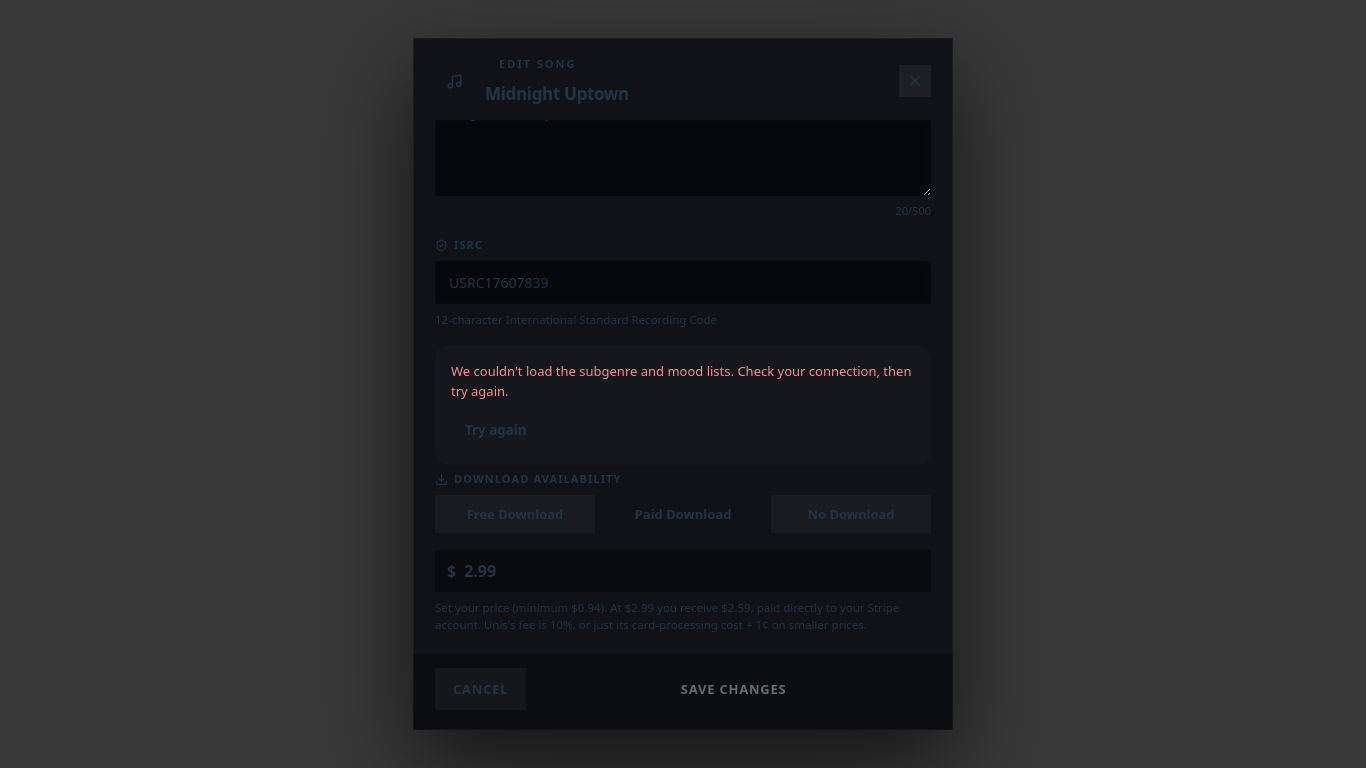
Scenario: EditSongWizard — download policy › switching from Paid back to Free hides the price input
(page scrolled)
Click the button "Free Download" at (515, 514), box [435, 495, 595, 533]
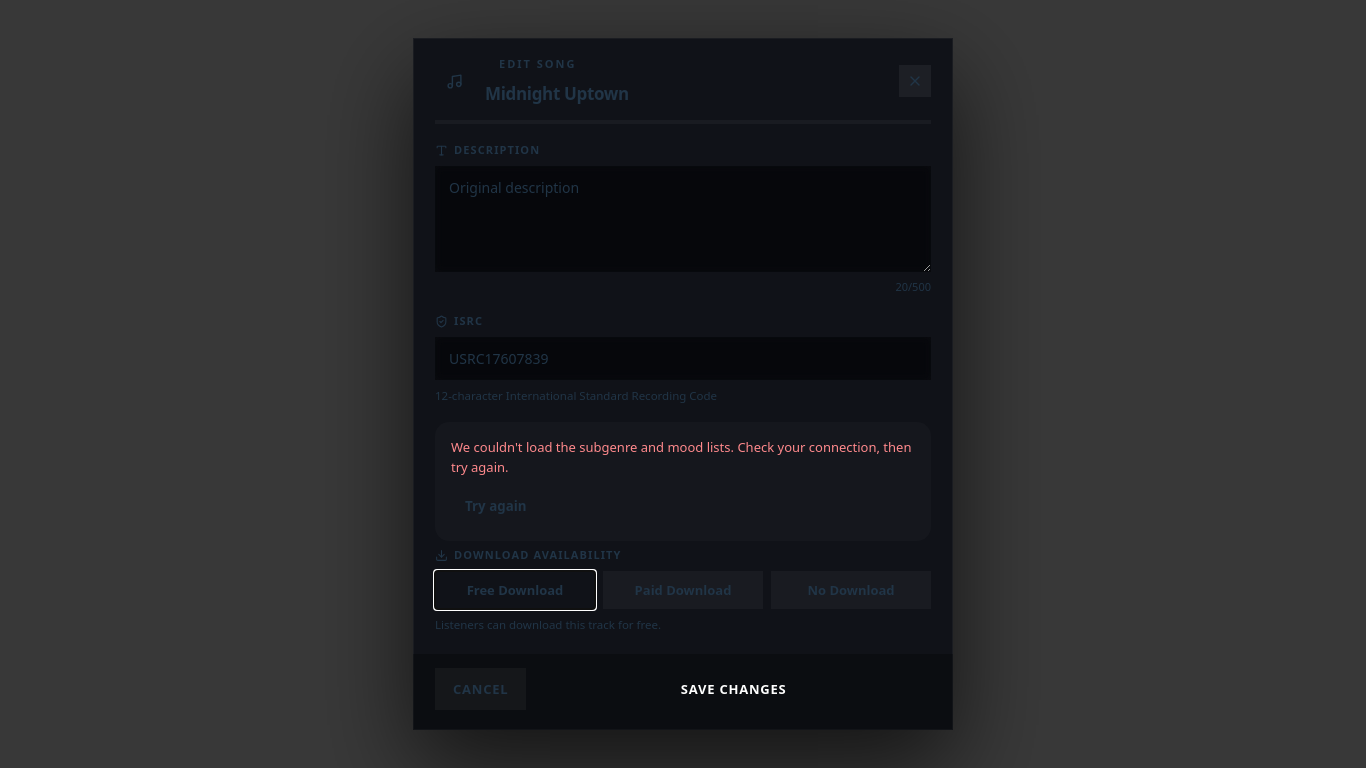
Expected: the text with placeholder "0.94" is gone
